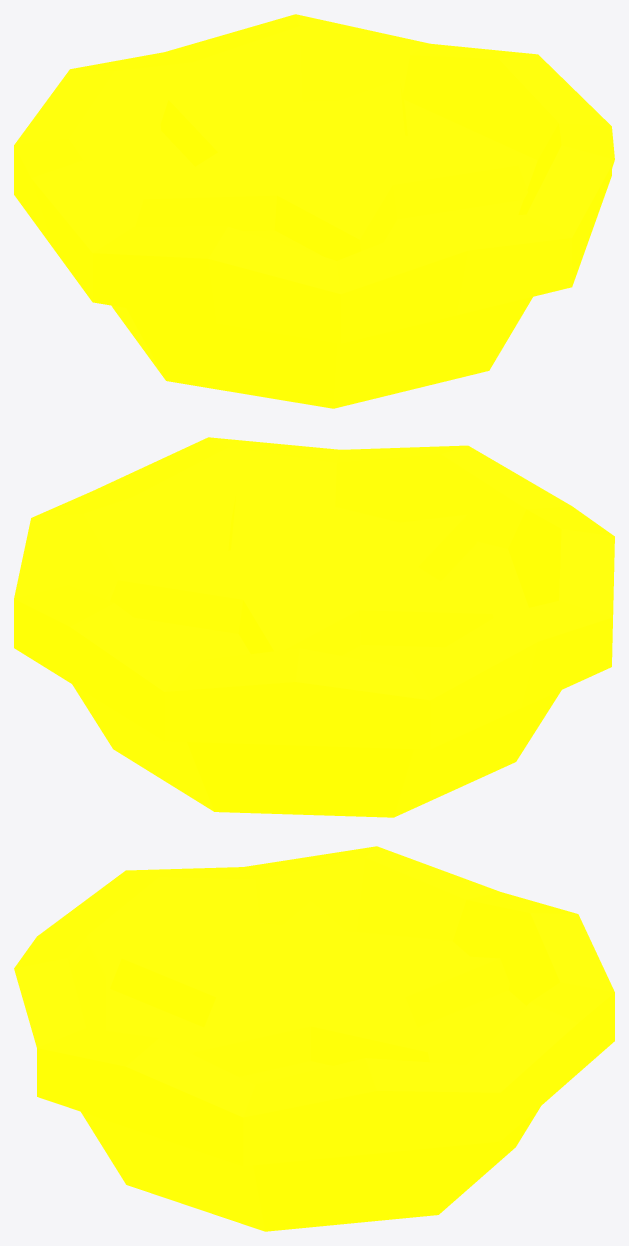
File: mince-pie.glb
3 views of the same model, one above another, from view 1: azimuth 30°, elevation 25°; view 2: azimuth 150°, elevation 25°; view 3: azimuth 270°, elevation 25° (orthographic).
Visible parts, largest first — view 1: mince_pie; view 2: mince_pie; view 3: mince_pie.
Boxes of the visible parts, x1,y1,x2,y2 form: mince_pie: [14, 14, 614, 408]; mince_pie: [14, 437, 614, 817]; mince_pie: [14, 846, 614, 1231].
Size of the model in its own units: 0.1002 by 0.0354 by 0.1016.
1 material, 1 textured.
